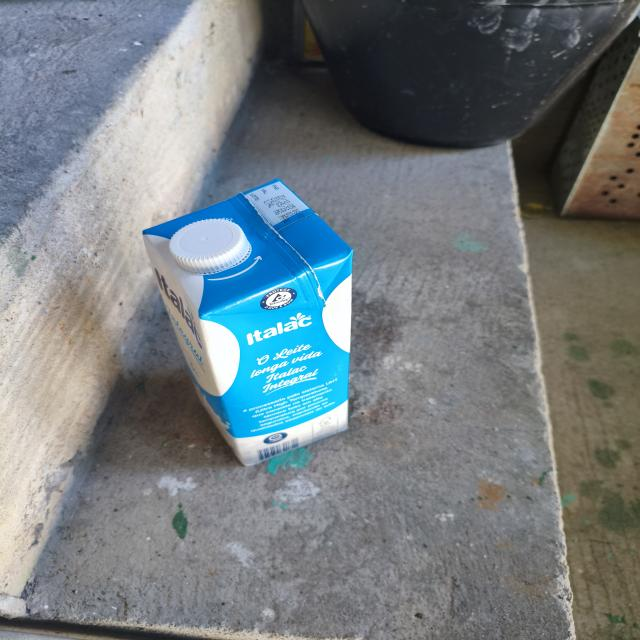Caixa de Leite: (136, 168, 368, 470)
